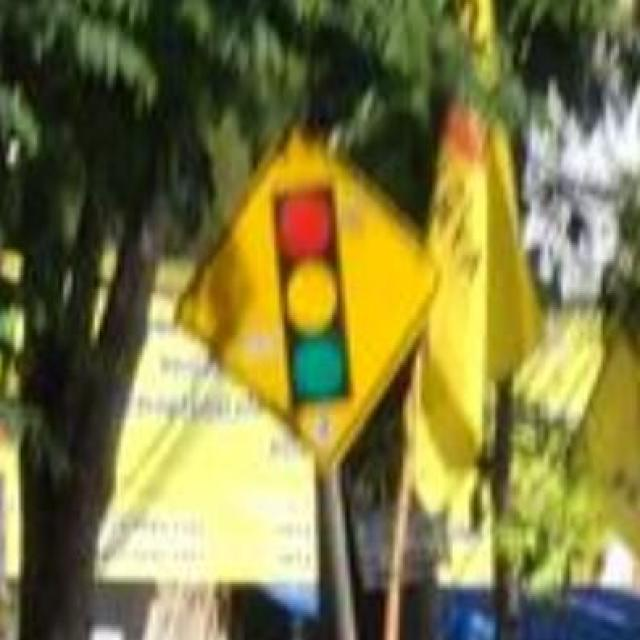traffic sign: (195, 136, 429, 449)
